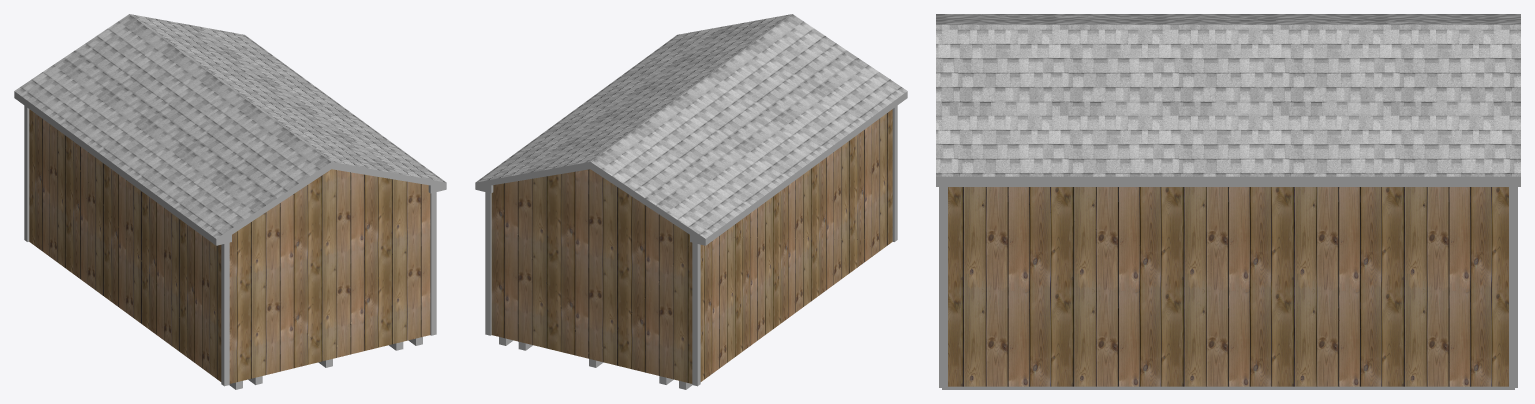
Rendered from A-frame_10x16.obj.
The picture shows the model from 3 angles, left to right: view 1: azimuth 30°, elevation 25°; view 2: azimuth 150°, elevation 25°; view 3: azimuth 270°, elevation 25°; orthographic projection. The views are drawn at different scales.
Parts seen in each view (by area): view 1: Shed, Roof, Sides, Trim, Floor; view 2: Shed, Roof, Sides, Trim, Floor; view 3: Shed, Roof, Sides, Trim, Floor.
Boxes of the visible parts, x1=… form: Shed: x1=29, y1=109, x2=430, y2=383; Roof: x1=14, y1=14, x2=446, y2=238; Sides: x1=14, y1=91, x2=446, y2=245; Trim: x1=24, y1=105, x2=436, y2=386; Floor: x1=229, y1=337, x2=422, y2=389; Shed: x1=491, y1=109, x2=892, y2=383; Roof: x1=475, y1=14, x2=907, y2=238; Sides: x1=475, y1=91, x2=907, y2=245; Trim: x1=485, y1=105, x2=897, y2=386; Floor: x1=499, y1=337, x2=692, y2=389; Shed: x1=948, y1=187, x2=1508, y2=386; Roof: x1=936, y1=14, x2=1520, y2=176; Sides: x1=936, y1=176, x2=1520, y2=186; Trim: x1=939, y1=187, x2=1517, y2=387; Floor: x1=942, y1=386, x2=1514, y2=389.
Bounding box in the file's own units: 3.28 × 2.81 × 4.98.
